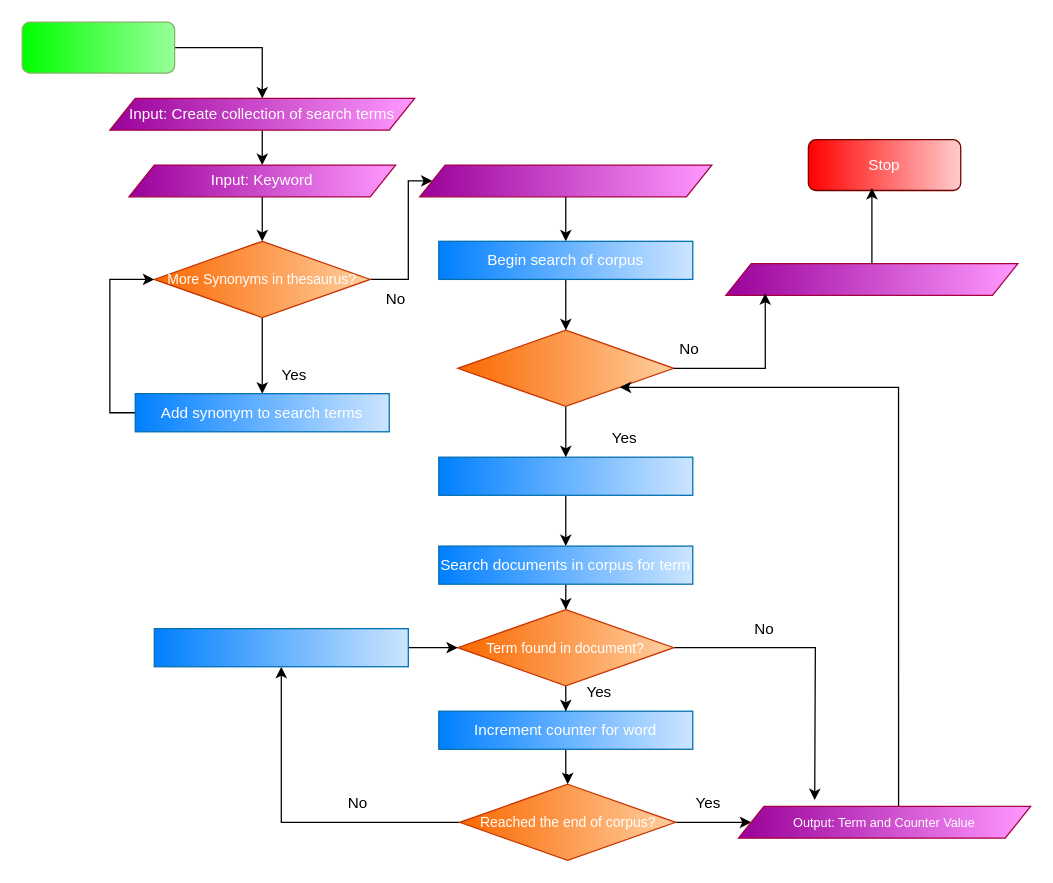
Some shapes in this 1053 by 883 pixel diagram are drawn without their labels. The centre of each missing label's shape, as x and y in pixels:
"Continue searching for term" belongs at (x=280, y=647).
"More terms in collection?" belongs at (x=565, y=367).
"Output: All terms and Counter Values" belongs at (x=871, y=278).
"Output: Collection of search terms" belongs at (x=565, y=180).
"Set counter for term to 0" belongs at (x=565, y=475).
"Start" belongs at (x=98, y=47).
